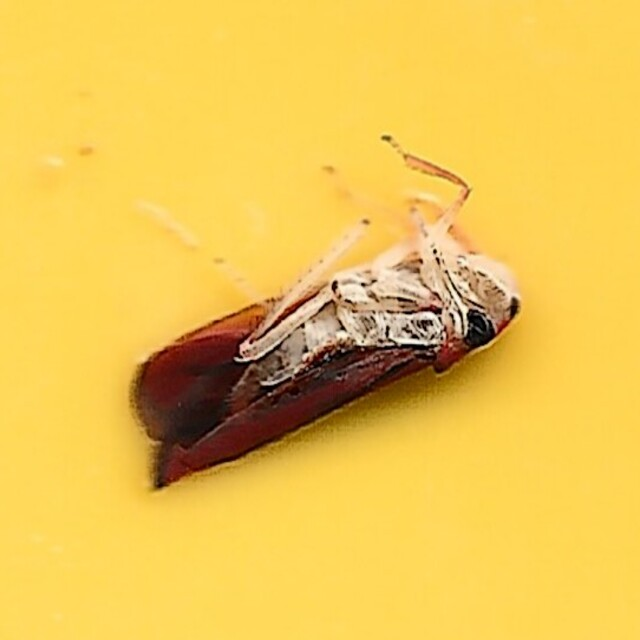Hemiptera: (118, 142, 522, 498)
